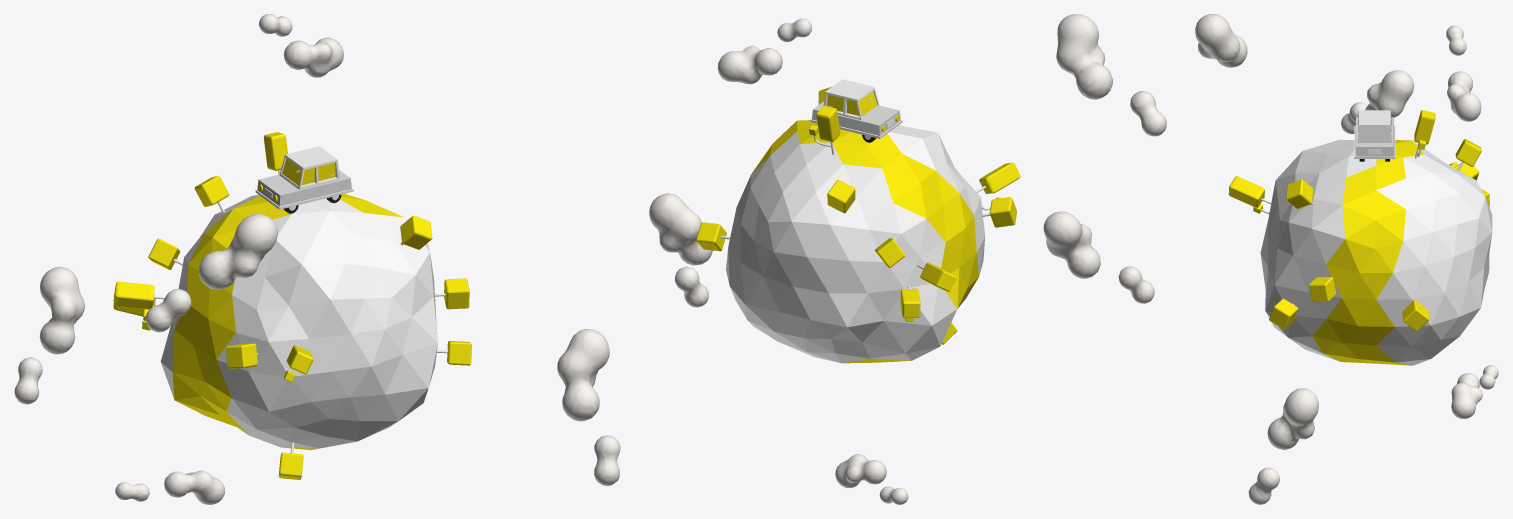
File: trip1.gltf
3 views of the same model, side by side, from view 1: azimuth 30°, elevation 25°; view 2: azimuth 150°, elevation 25°; view 3: azimuth 270°, elevation 25° (orthographic). The views are drawn at different scales.
Parts seen in each view (by area): view 1: 0earth, 2cloud, 1car; view 2: 0earth, 2cloud, 1car; view 3: 0earth, 2cloud, 1car.
Boxes of the visible parts, x1=… form: 0earth: x1=113, y1=132, x2=471, y2=479; 2cloud: x1=14, y1=14, x2=620, y2=504; 1car: x1=255, y1=146, x2=353, y2=213; 0earth: x1=696, y1=86, x2=1020, y2=363; 2cloud: x1=649, y1=14, x2=1166, y2=504; 1car: x1=810, y1=79, x2=902, y2=142; 0earth: x1=1228, y1=110, x2=1492, y2=365; 2cloud: x1=1195, y1=14, x2=1498, y2=504; 1car: x1=1354, y1=110, x2=1395, y2=161.
Bounding box in the file's own units: 4.96 × 4.04 × 2.68.
